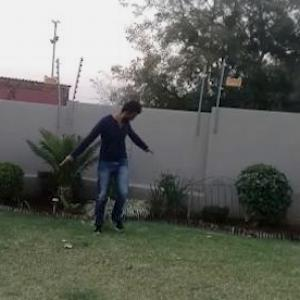land: (66, 86, 180, 251)
